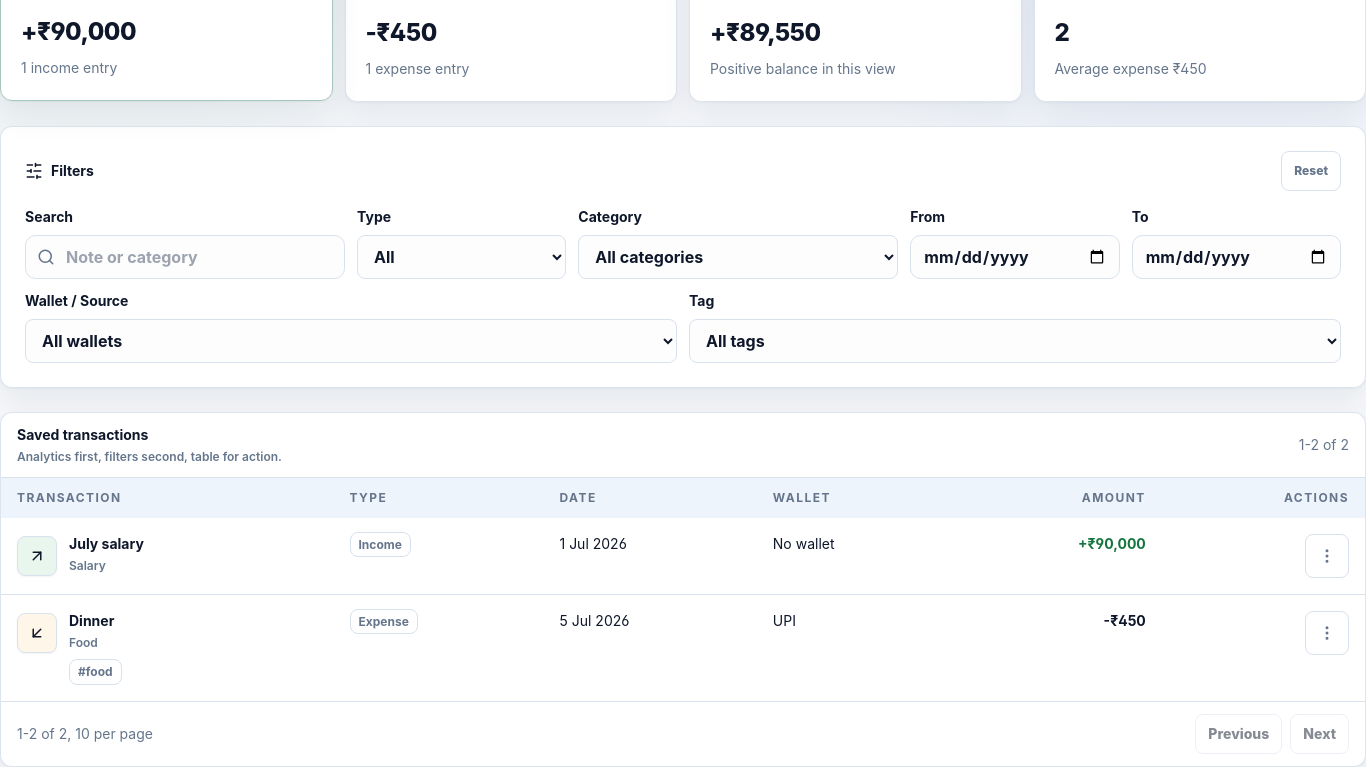
Test: TransactionList › clones an existing transaction
(page scrolled)
Expected: the text "Dinner" is shown, [69,611,122,631]
Click the button named "Open actions for Dinner transaction" at (1327, 633), box [1305,611,1349,655]
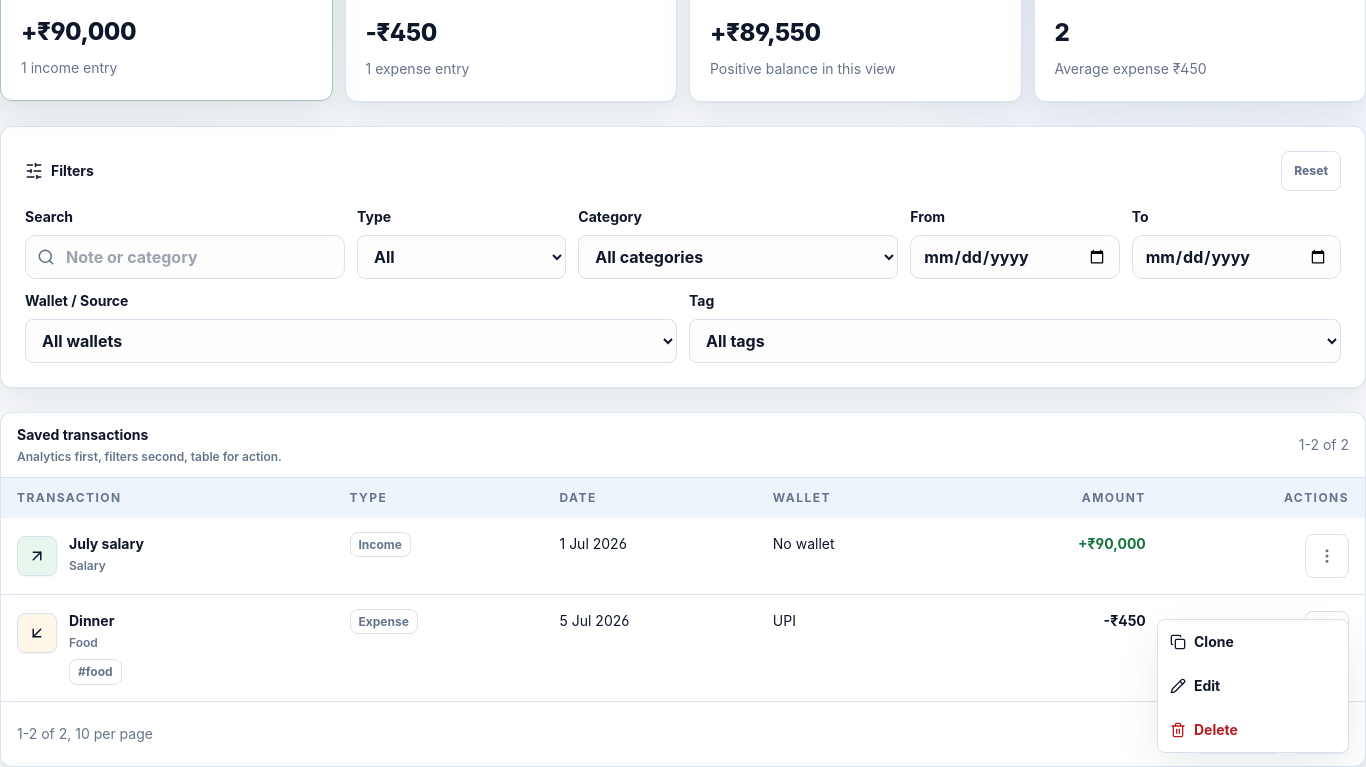
Click the button with aria-label "Clone Dinner transaction" at (1253, 642), box [1158,620,1348,664]
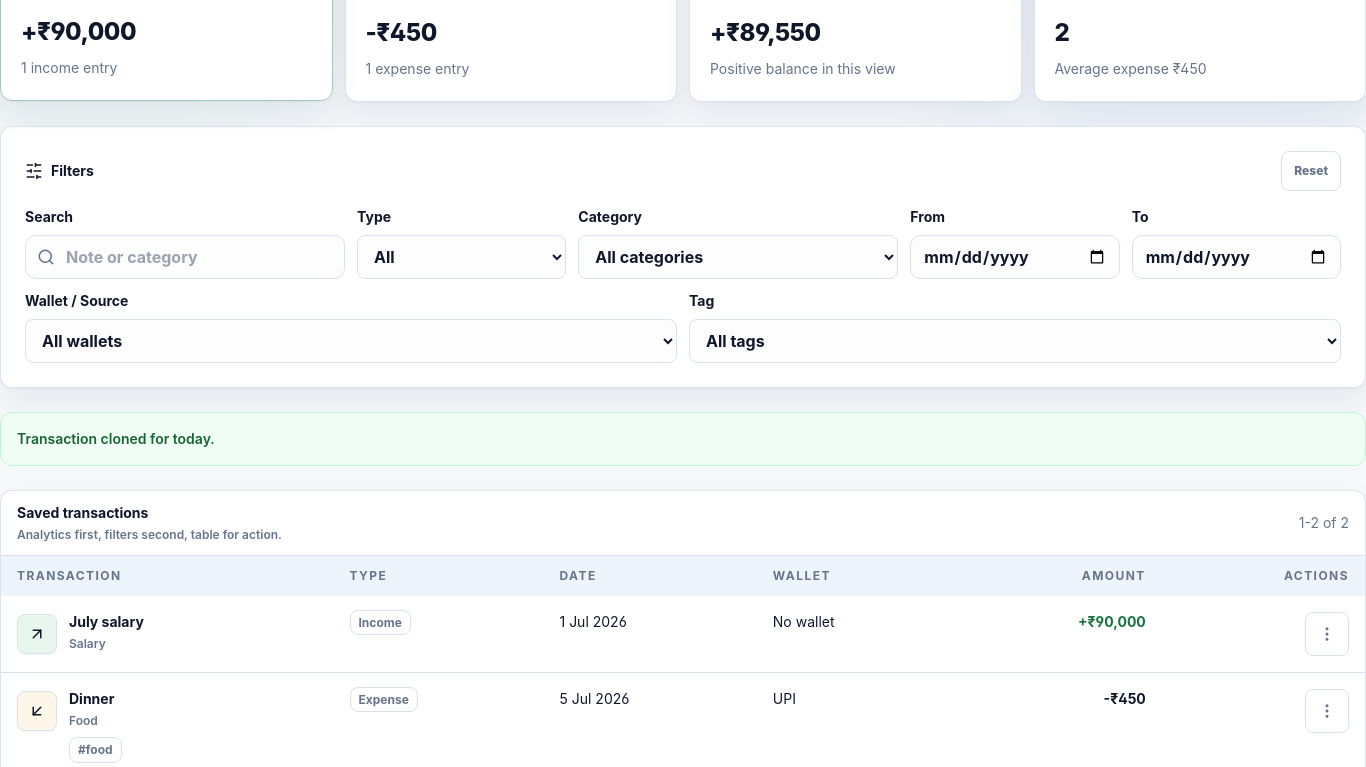
Now the message reads "Transaction cloned for today.", box [17,430,215,447]
